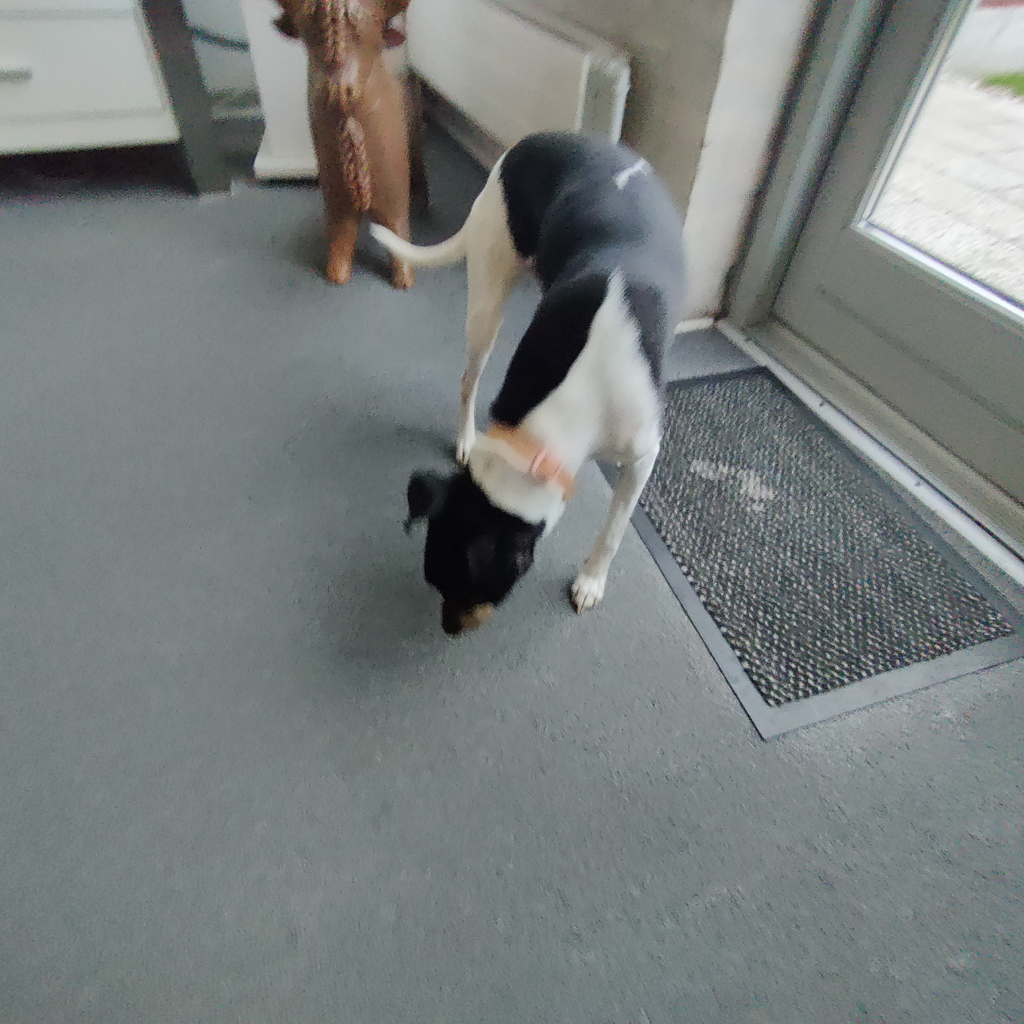Cattle: (244, 0, 454, 307)
Dog: (338, 81, 761, 677)
